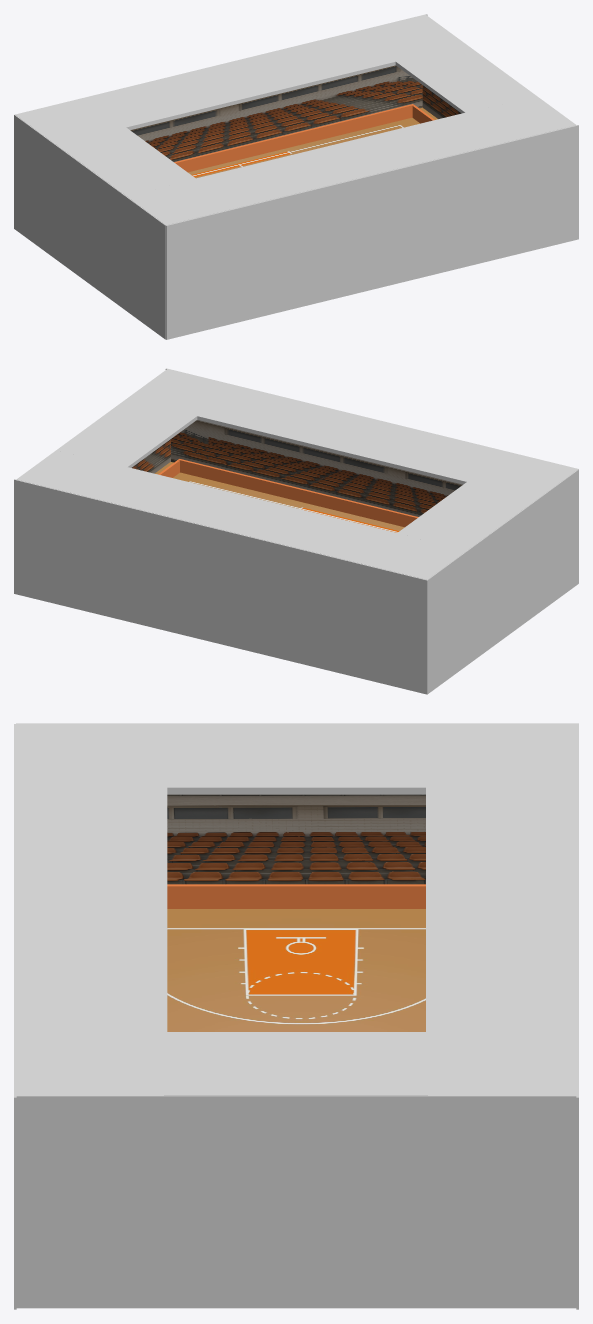
File: Basketballfeld.fbx
3 views of the same model, one above another, from view 1: azimuth 30°, elevation 25°; view 2: azimuth 150°, elevation 25°; view 3: azimuth 270°, elevation 25° (orthographic). The views are drawn at different scales.
Visible parts, largest first — view 1: Würfel.007, Würfel.008, Würfel.003, Würfel.002, Wand 1, Würfel.005, Würfel.004, Bande 1.001, Fläche, Wand 4, Würfel.006; view 2: Würfel.006, Würfel.008, Würfel.002, Würfel.003, Wand 2, Würfel.005, Würfel.004, Bande 1, Fläche, Wand 4, Würfel.007; view 3: Würfel.009, Würfel.002, Würfel.003, Fläche, Wand 3, Würfel.004, Würfel.005, Würfel.001, Würfel.006, Würfel.007.
Part boxes in pixels (x1,y1,x2,y2): Würfel.007: (166,125,578,339); Würfel.008: (14,114,165,339); Würfel.003: (15,15,464,144); Würfel.002: (126,96,575,225); Wand 1: (130,65,422,161); Würfel.005: (395,44,536,113); Würfel.004: (56,127,195,195); Bande 1.001: (174,104,413,172); Fläche: (188,117,419,178); Wand 4: (422,85,461,118); Würfel.006: (15,14,427,114); Würfel.006: (14,479,426,694); Würfel.008: (426,469,578,694); Würfel.002: (128,369,577,498); Würfel.003: (17,450,466,579); Wand 2: (171,420,462,516); Würfel.005: (57,398,197,467); Würfel.004: (397,481,537,550); Bande 1: (178,459,418,527); Fläche: (173,472,404,532); Wand 4: (132,439,170,473); Würfel.007: (165,368,578,469); Würfel.009: (16,1095,576,1308); Würfel.002: (16,724,167,1095); Würfel.003: (426,724,576,1095); Fläche: (167,909,425,1031); Wand 3: (167,794,425,884); Würfel.004: (164,724,427,794); Würfel.005: (164,1032,427,1095); Würfel.001: (167,884,425,908); Würfel.006: (576,724,578,1309); Würfel.007: (14,724,16,1309).
Bounding box in the file's own units: 7050 × 1861 × 4496.
